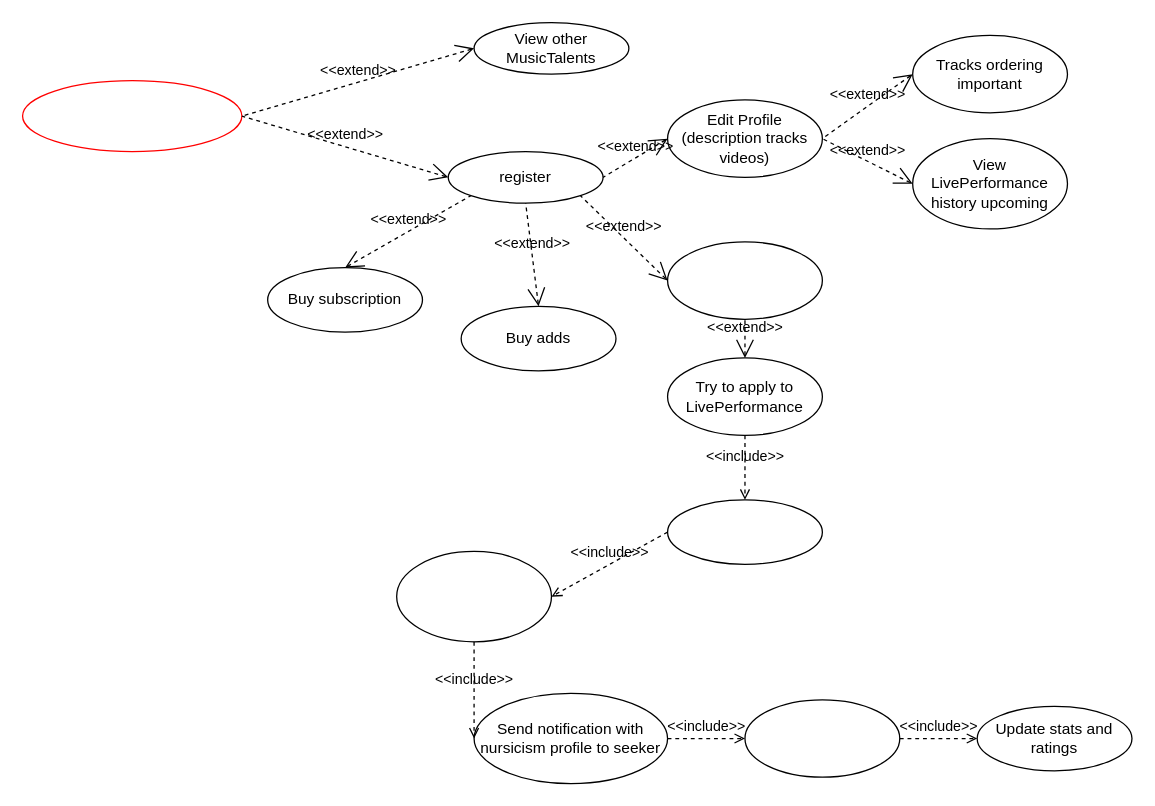
The diagram is 1155 pixels wide and 806 high, and some of its shapes have lost their labels. The shapes that lost their labels are listed below. From the top down, each one's box as (x1, y1, x2, y2) in pixels, then its label:
(21, 79, 242, 152): MusicTalent
(666, 241, 822, 319): View LivePerformance offers
(666, 499, 822, 564): Click "Try it out"
(395, 550, 551, 642): Check or offer subscription try out period
(744, 699, 900, 777): Awaits Seeker approval
